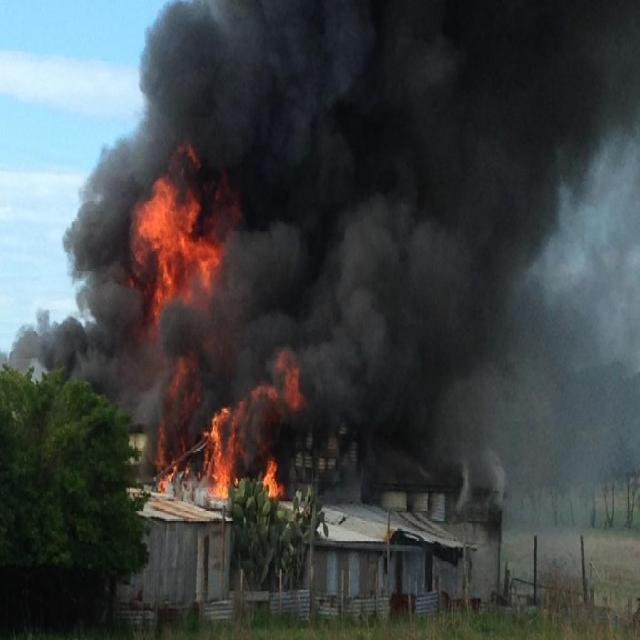Fire: (119, 138, 229, 334), (202, 369, 300, 497), (152, 414, 182, 490), (262, 453, 280, 498)
